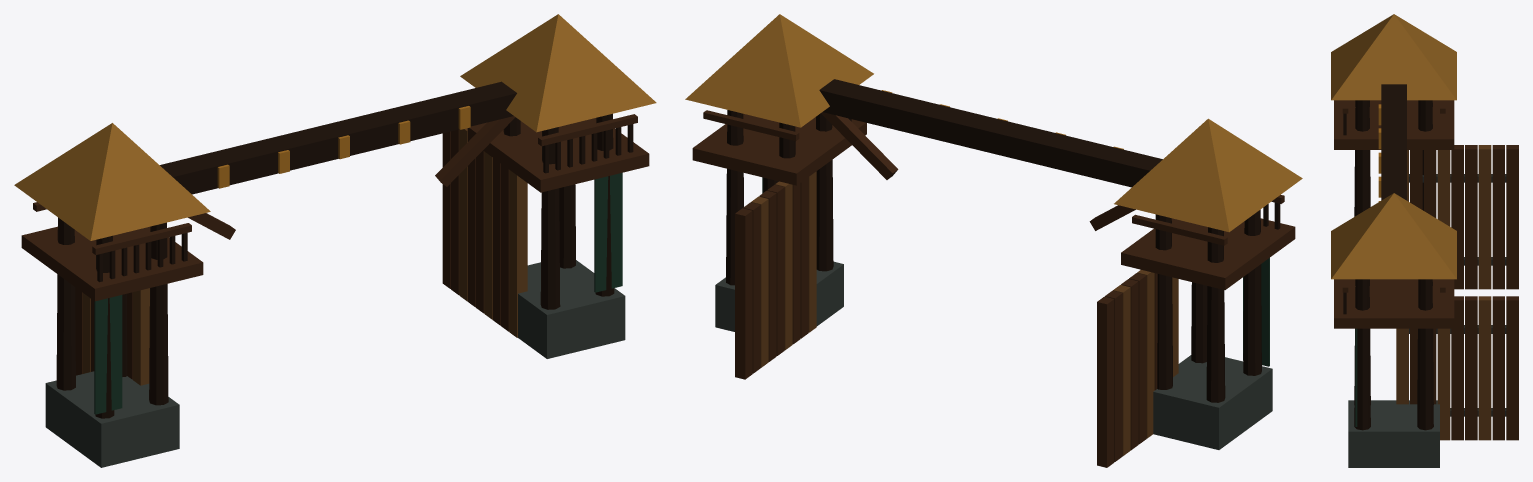
Rendered from Gate.fbx.
The picture shows the model from 3 angles, left to right: view 1: azimuth 30°, elevation 25°; view 2: azimuth 150°, elevation 25°; view 3: azimuth 270°, elevation 25°; orthographic projection. The views are drawn at different scales.
Parts seen in each view (by area): view 1: Gate_LOD0; view 2: Gate_LOD0; view 3: Gate_LOD0.
Part boxes in pixels (<box>): Gate_LOD0: <box>14,14,656,467</box>; Gate_LOD0: <box>685,14,1302,467</box>; Gate_LOD0: <box>1331,14,1518,467</box>.
Size of what is drawn, in the model's own units: 18.8 by 10 by 6.56.
